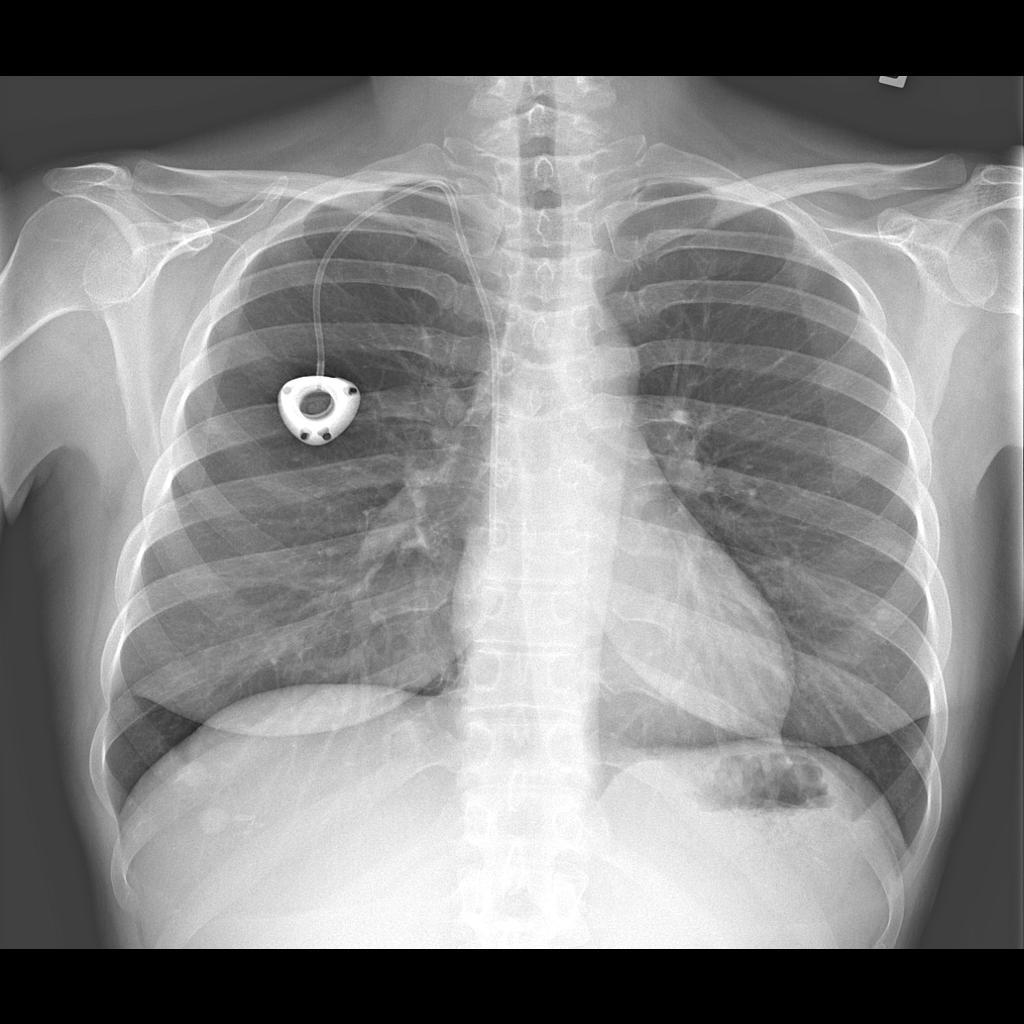Nodule: (194, 806, 234, 843), (177, 759, 214, 790), (906, 741, 930, 774)
